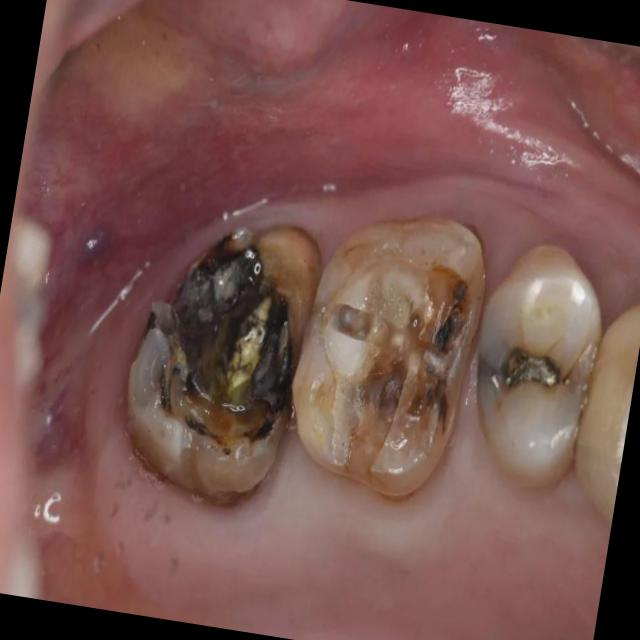Caries: (173, 235, 292, 417), (501, 349, 562, 389), (185, 415, 217, 439), (434, 318, 454, 350), (245, 422, 273, 441), (143, 312, 157, 338), (162, 391, 167, 410)
Cavity: (334, 265, 472, 472)
Tooth: (295, 215, 485, 495), (125, 228, 322, 495), (475, 242, 603, 485), (573, 302, 640, 524)
